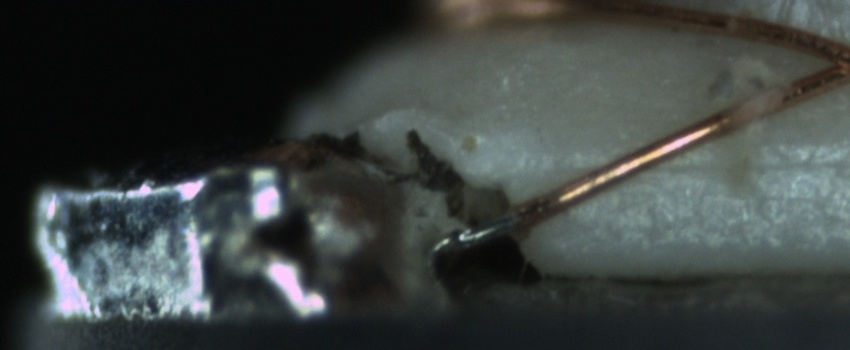CL: (806, 30, 850, 92)
DL: (549, 134, 849, 196)
TS: (446, 206, 524, 252)
